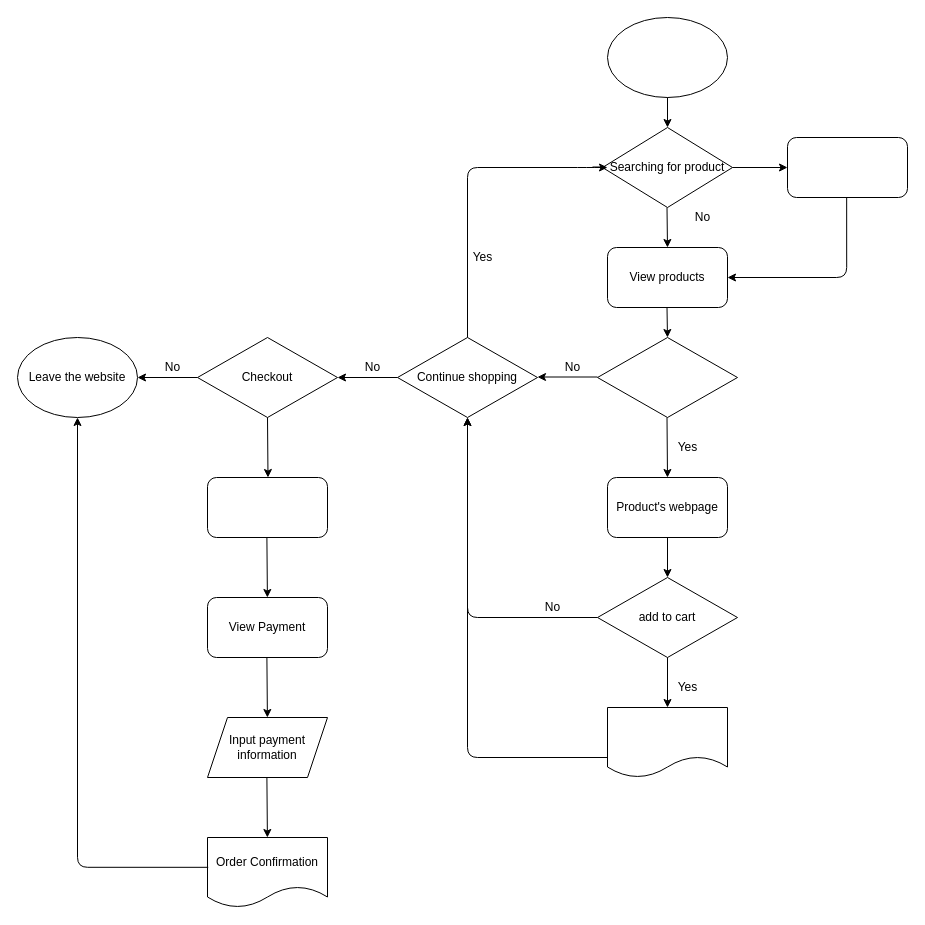
The diagram is 925 pixels wide and 925 high, and some of its shapes have lost their labels. Each missing label, with the box of its shape:
Cart Confirmation: (606, 706, 728, 778)
Enter the website: (606, 16, 728, 98)
Input to website: (786, 136, 908, 198)
View Cart: (206, 476, 328, 538)
View specific product: (596, 336, 738, 418)
